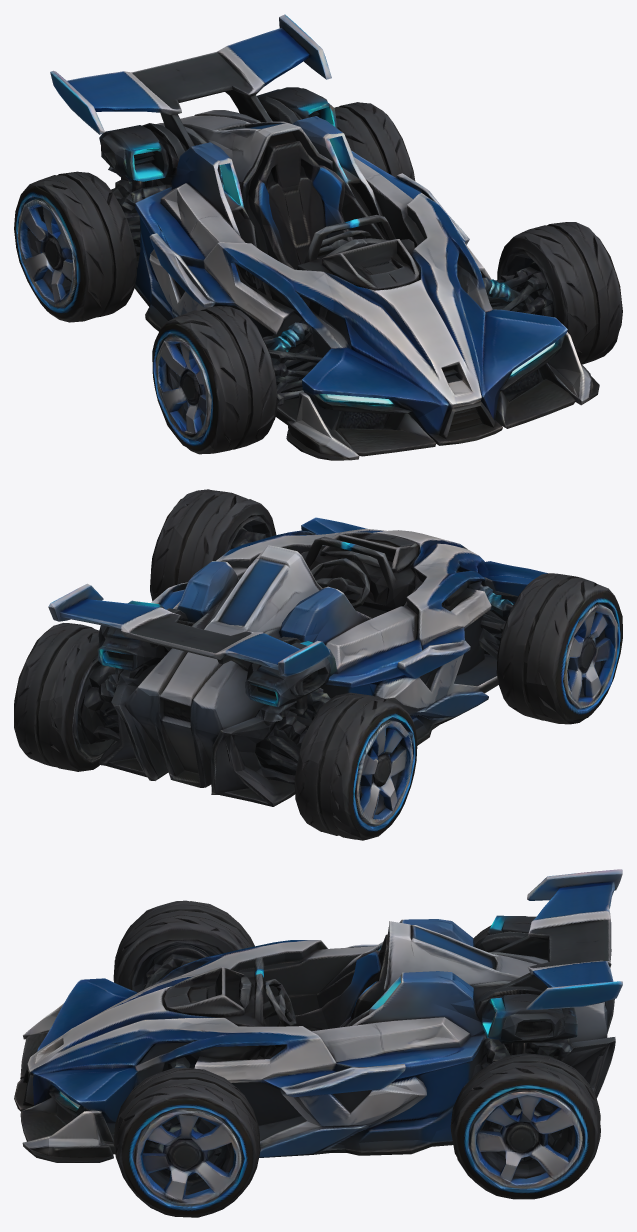
Rendered from 02-cobalt-manta-pbr.glb.
3 renders of one model, top to bottom at view 1: azimuth 30°, elevation 25°; view 2: azimuth 150°, elevation 25°; view 3: azimuth 270°, elevation 25°, orthographic.
Visible parts, largest first — view 1: model; view 2: model; view 3: model.
Boxes of the visible parts, box(x1,y1,x2,y2) form: model: box(14, 14, 622, 460); model: box(14, 489, 622, 840); model: box(14, 869, 622, 1217).
Size of the model in its own units: 1.46 by 0.6852 by 1.89.
1 material, 1 textured.
